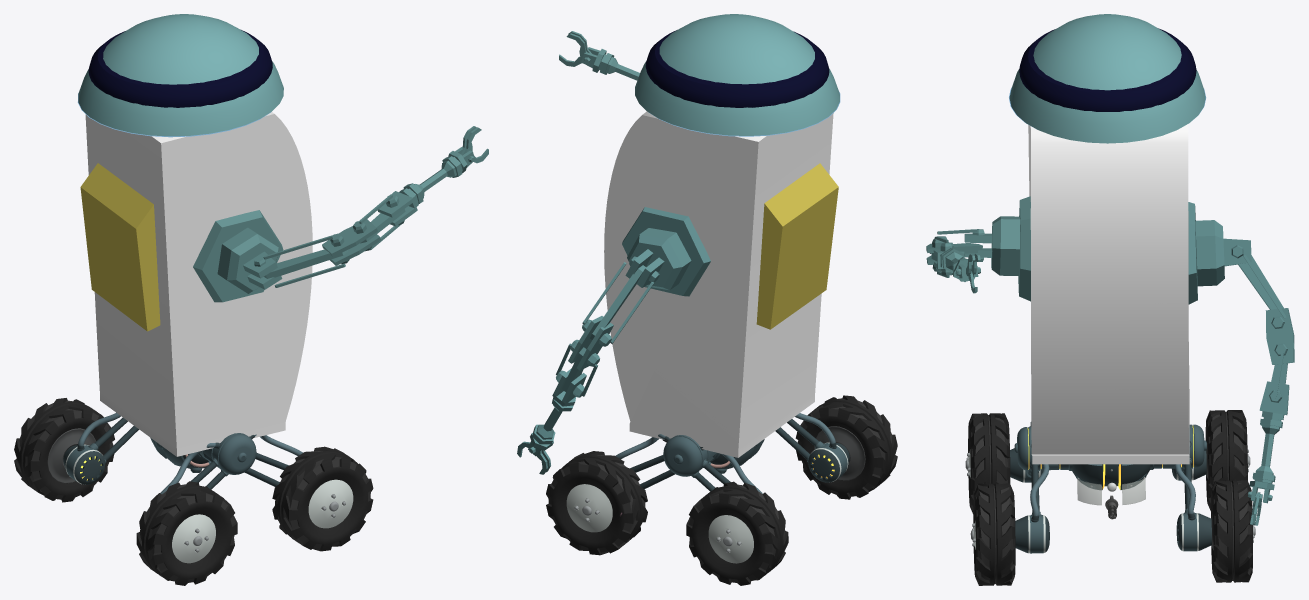
File: PP4-Robo-Main-Crashed.glb
3 views of the same model, side by side, from view 1: azimuth 30°, elevation 25°; view 2: azimuth 150°, elevation 25°; view 3: azimuth 270°, elevation 25° (orthographic). The views are drawn at different scales.
Parts seen in each view (by area): view 1: Cube, polySurface39, Sphere, Cube.001, Torus, Base, Object_23, Object_21, Object_19, Object_15, Object_13, Object_17; view 2: Cube, polySurface39, Sphere, Cube.001, Torus, Object_23.001, Base_lambert1_0.001, Object_19.001, Object_21.001, Object_15.001, Object_13.001, Object_17.001 (+1 smaller); view 3: Cube, polySurface39, Sphere, Torus, Object_23.001, Object_23, Object_19.001, Base, Object_21.001, Object_15.001, Object_13.001, Base_lambert1_0.001.
Part boxes in pixels (left/top/right/bottom): Cube: left=85, top=112, right=312, bottom=456; polySurface39: left=14, top=398, right=373, bottom=585; Sphere: left=78, top=14, right=283, bottom=136; Cube.001: left=80, top=163, right=160, bottom=331; Torus: left=88, top=30, right=272, bottom=107; Base: left=193, top=210, right=283, bottom=302; Object_23: left=217, top=227, right=282, bottom=293; Object_21: left=263, top=235, right=348, bottom=287; Object_19: left=322, top=219, right=380, bottom=265; Object_15: left=377, top=188, right=418, bottom=226; Object_13: left=403, top=156, right=462, bottom=203; Object_17: left=359, top=194, right=405, bottom=250; Cube: left=604, top=111, right=833, bottom=457; polySurface39: left=546, top=395, right=897, bottom=585; Sphere: left=635, top=14, right=839, bottom=135; Cube.001: left=756, top=163, right=838, bottom=329; Torus: left=645, top=30, right=829, bottom=107; Object_23.001: left=625, top=228, right=691, bottom=290; Base_lambert1_0.001: left=622, top=207, right=710, bottom=296; Object_19.001: left=568, top=316, right=613, bottom=370; Object_21.001: left=582, top=262, right=653, bottom=343; Object_15.001: left=552, top=368, right=586, bottom=406; Object_13.001: left=532, top=397, right=573, bottom=444; Object_17.001: left=556, top=343, right=597, bottom=396; Cube: left=1028, top=124, right=1189, bottom=464; polySurface39: left=965, top=410, right=1255, bottom=585; Sphere: left=1009, top=14, right=1205, bottom=143; Torus: left=1019, top=28, right=1196, bottom=111; Object_23.001: left=1195, top=220, right=1251, bottom=286; Object_23: left=964, top=216, right=1020, bottom=275; Object_19.001: left=1265, top=308, right=1294, bottom=364; Base: left=1018, top=196, right=1030, bottom=301; Object_21.001: left=1238, top=254, right=1290, bottom=318; Object_15.001: left=1259, top=381, right=1289, bottom=421; Object_13.001: left=1252, top=419, right=1282, bottom=483; Base_lambert1_0.001: left=1188, top=202, right=1197, bottom=304.
Size of the model in its own units: 5.69 by 7.91 by 5.15.
Materials: 32 (1 with a texture image).
